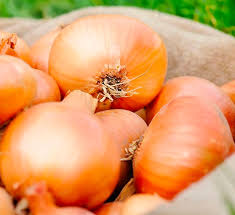Onion: (47, 11, 175, 116)
